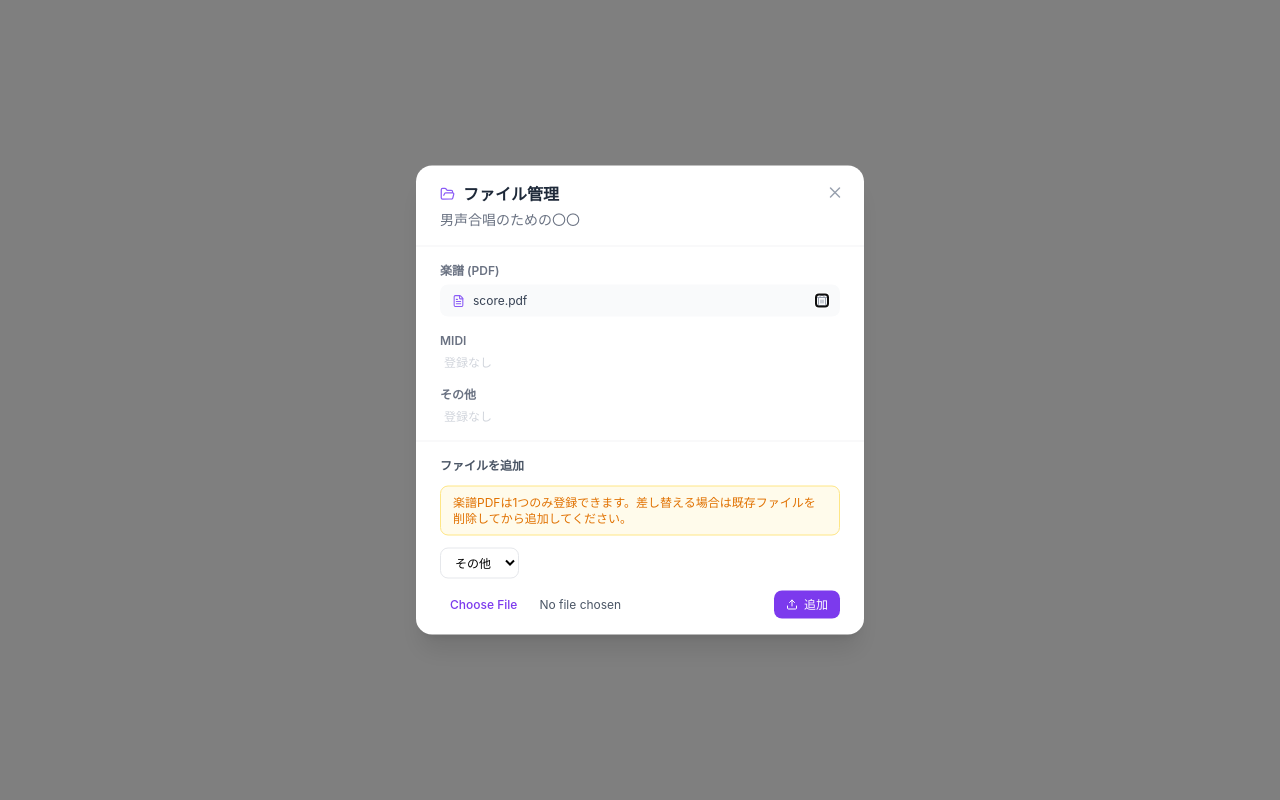
Test: FileManageModal（削除） › 削除を確定するとファイルが一覧から消える
The image size is (1280, 800).
Step 1. Click the button titled "削除" → [822, 300], box [816,294,828,306]
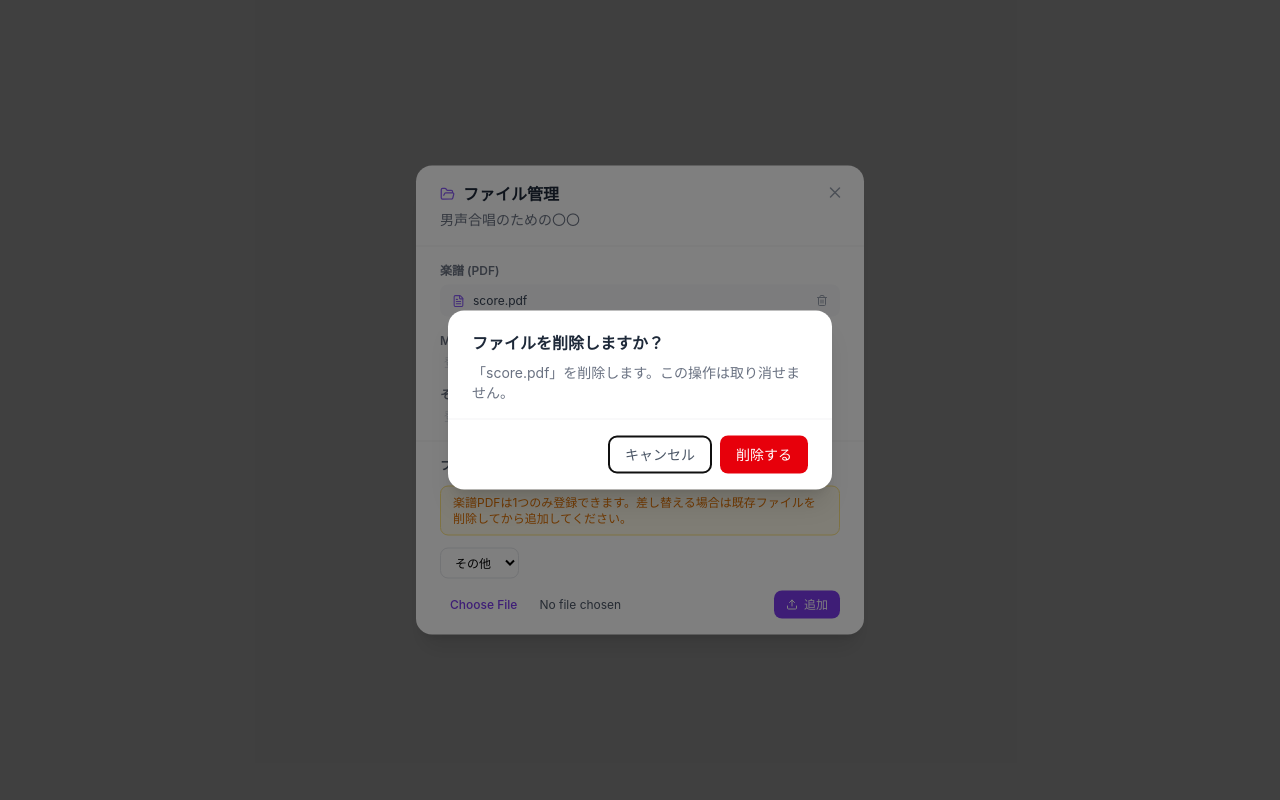
Step 2. Click the button "削除する" → [764, 454], box [720,436,808,474]
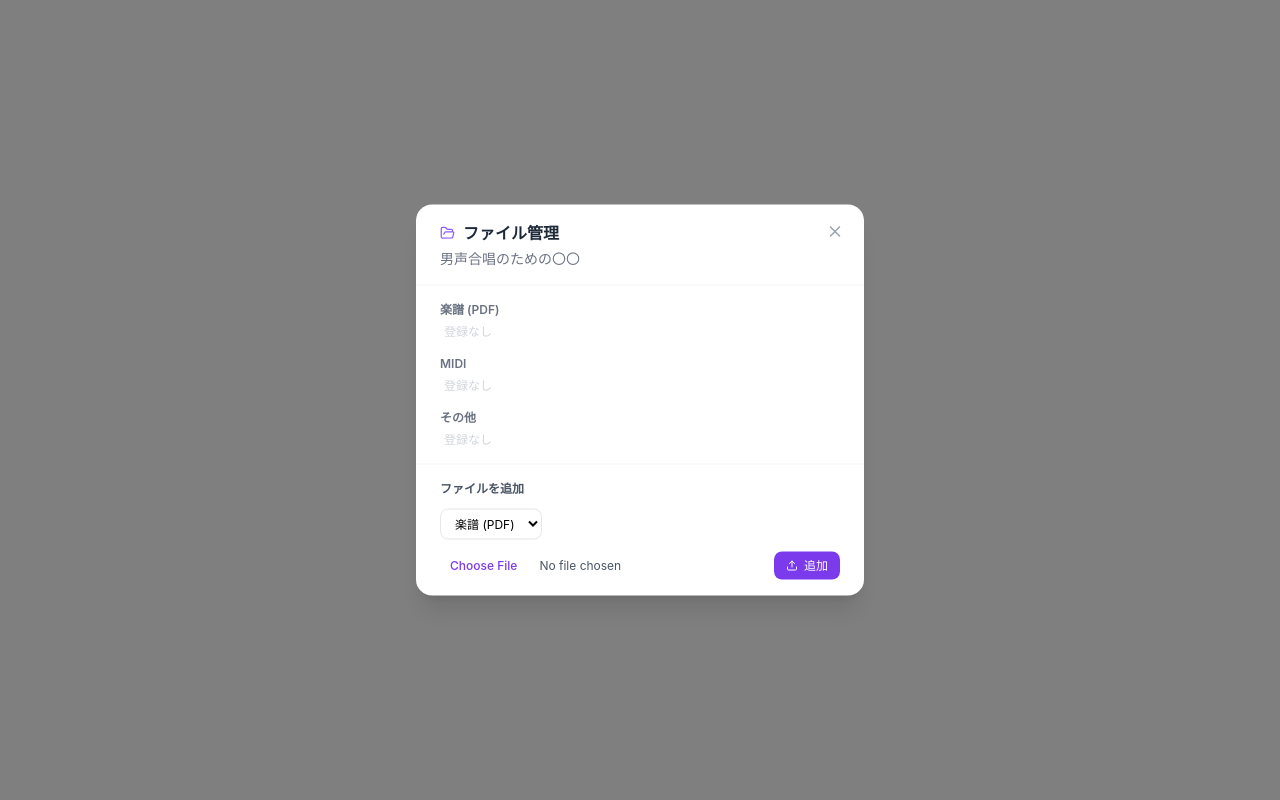
Expected: the text "score.pdf" is gone
